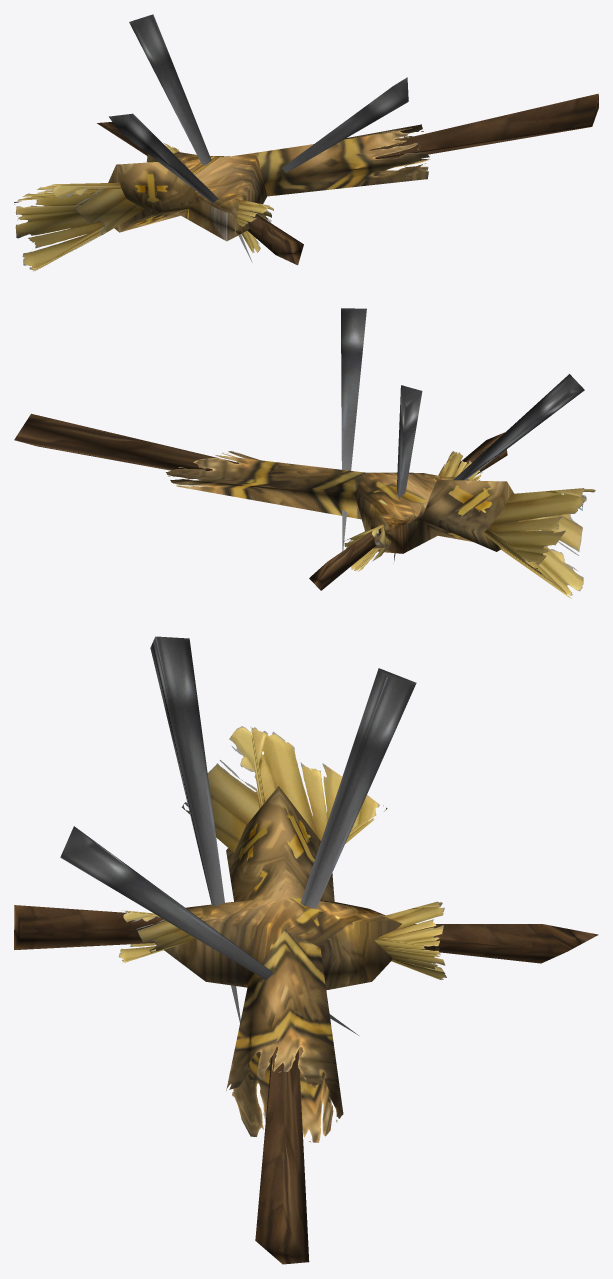
Rendered from voodoodoll01.obj.
3 views of the same model, one above another, from view 1: azimuth 30°, elevation 25°; view 2: azimuth 150°, elevation 25°; view 3: azimuth 270°, elevation 25° (orthographic). The views are drawn at different scales.
Parts seen in each view (by area): view 1: voodoodoll01; view 2: voodoodoll01; view 3: voodoodoll01.
Part boxes in pixels (left/top/right/bottom): voodoodoll01: left=14, top=14, right=598, bottom=271; voodoodoll01: left=14, top=308, right=595, bottom=598; voodoodoll01: left=14, top=636, right=598, bottom=1264.
Size of the model in its own units: 1.03 by 0.3901 by 0.5881.
1 material, 1 textured.
